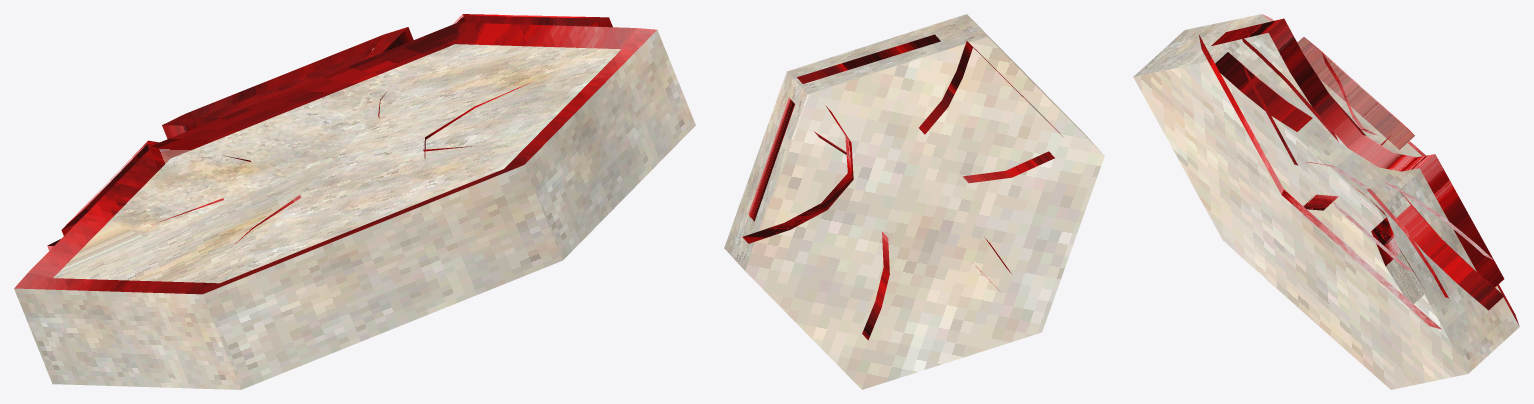
File: ps2_save-icons_mastersoftheuniversehe-mandefenderofgrayskull.glb
3 views of the same model, side by side, from view 1: azimuth 30°, elevation 25°; view 2: azimuth 150°, elevation 25°; view 3: azimuth 270°, elevation 25° (orthographic). The views are drawn at different scales.
Parts seen in each view (by area): view 1: sviconps.ico; view 2: sviconps.ico; view 3: sviconps.ico.
Part boxes in pixels (bbox=[...]): sviconps.ico: bbox=[14, 14, 695, 389]; sviconps.ico: bbox=[724, 14, 1104, 389]; sviconps.ico: bbox=[1133, 14, 1519, 389].
Size of the model in its own units: 3.86 by 3.56 by 3.56.
Materials: 1 (1 with a texture image).
